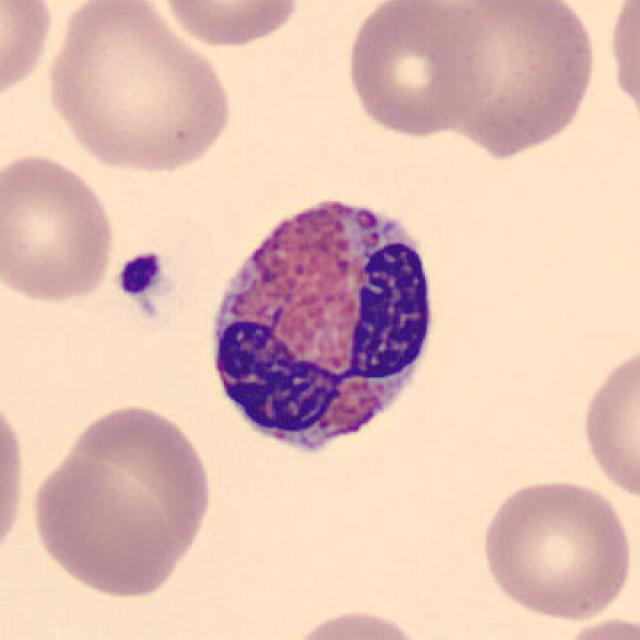Nuclei: (213, 244, 428, 432), (122, 252, 156, 294)
